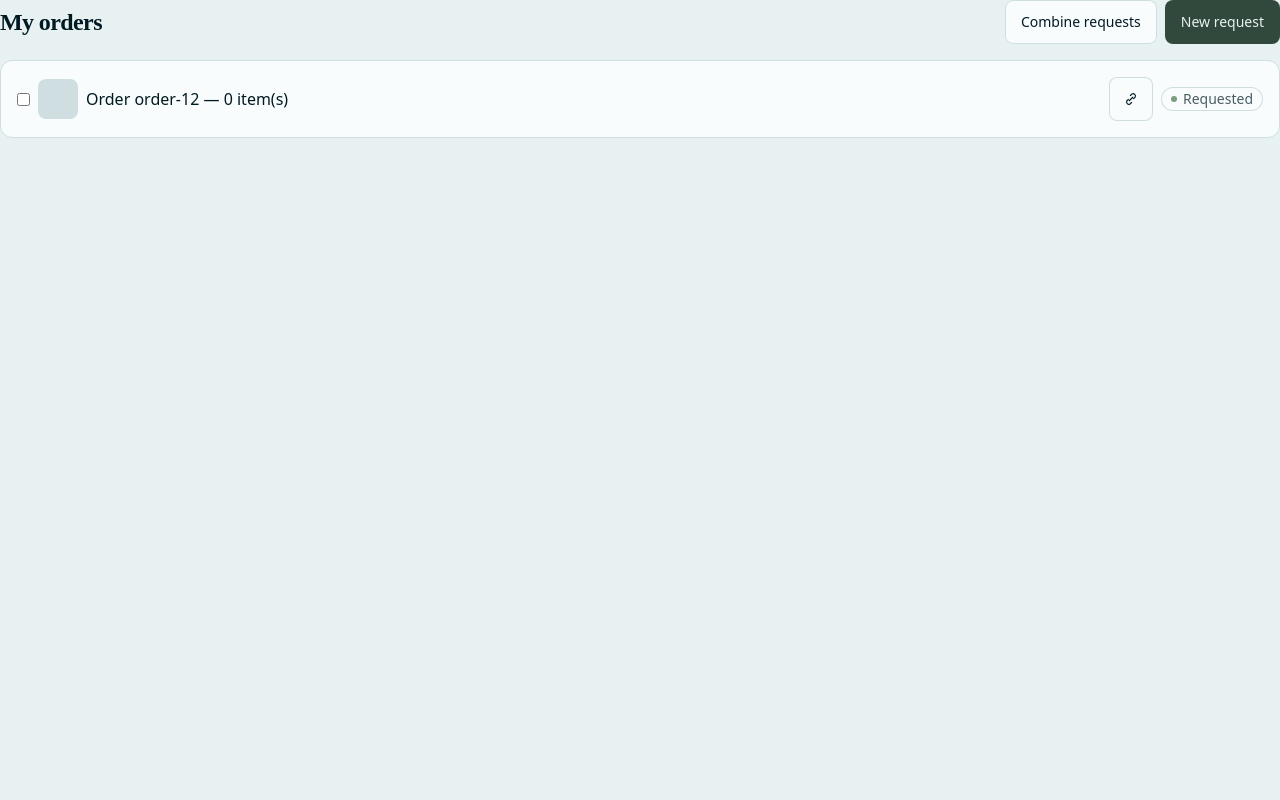
Test: OrdersListPage › opens the combine request modal from an open order
Click the button named "Ask to join another member".
click(1131, 99)  # box top-left (1109, 77), bottom-right (1153, 121)
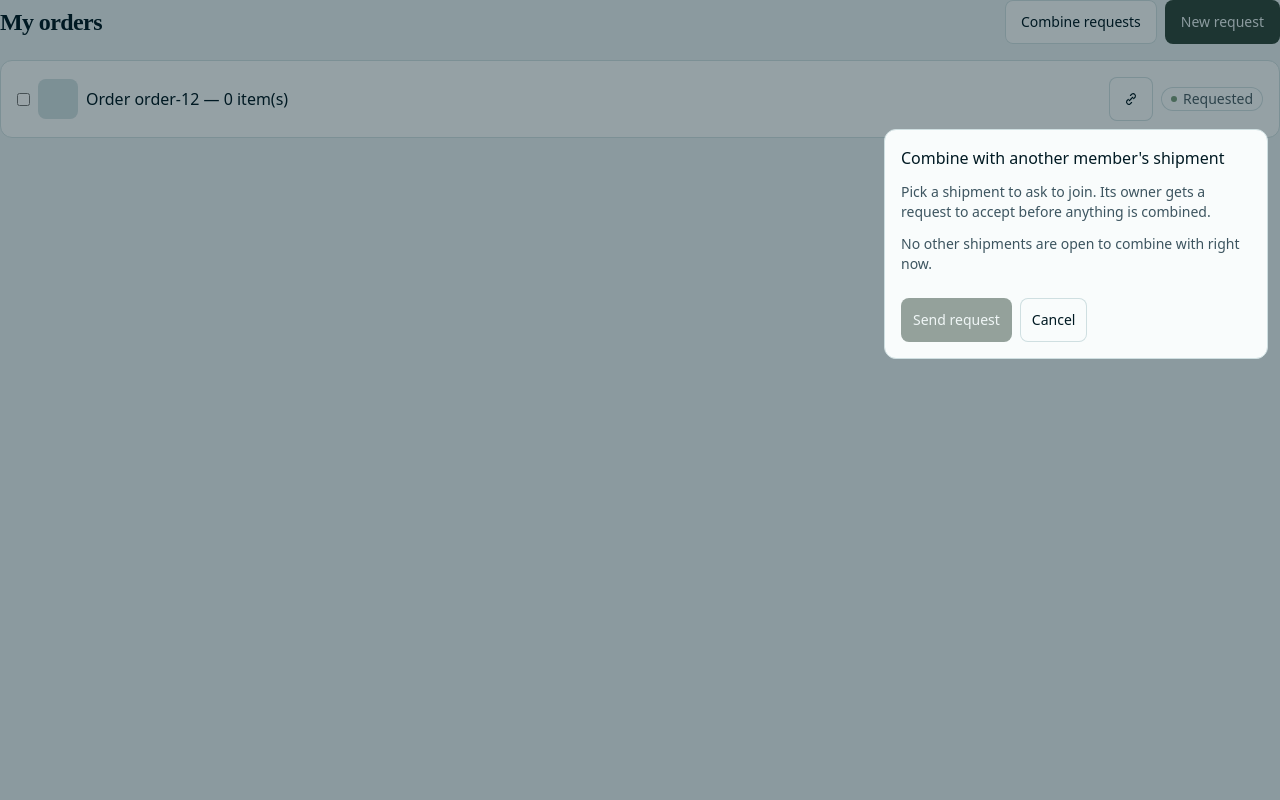
Now the dialog is shown, box top-left (884, 129), bottom-right (1268, 359)
